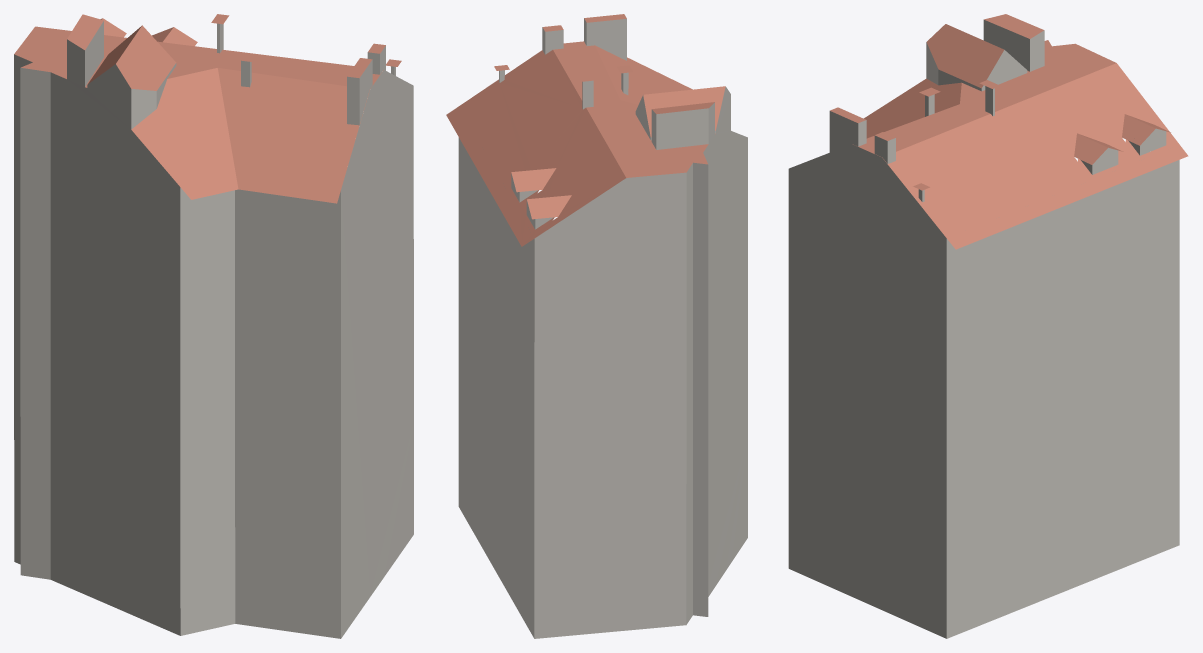
3 views of the same model, side by side, from view 1: azimuth 30°, elevation 25°; view 2: azimuth 150°, elevation 25°; view 3: azimuth 270°, elevation 25° (orthographic). The views are drawn at different scales.
Visible parts, largest first — view 1: swisstopo:swissbuildings3d:f1e4f3ab-6046-439a-b6ba-bd74c711b; view 2: swisstopo:swissbuildings3d:f1e4f3ab-6046-439a-b6ba-bd74c711b; view 3: swisstopo:swissbuildings3d:f1e4f3ab-6046-439a-b6ba-bd74c711b.
Part boxes in pixels (left/top/right/bottom): swisstopo:swissbuildings3d:f1e4f3ab-6046-439a-b6ba-bd74c711b: left=14, top=14, right=413, bottom=638; swisstopo:swissbuildings3d:f1e4f3ab-6046-439a-b6ba-bd74c711b: left=446, top=14, right=747, bottom=638; swisstopo:swissbuildings3d:f1e4f3ab-6046-439a-b6ba-bd74c711b: left=788, top=14, right=1188, bottom=638.
Bounding box in the file's own units: 20.92 × 31.67 × 23.98.
